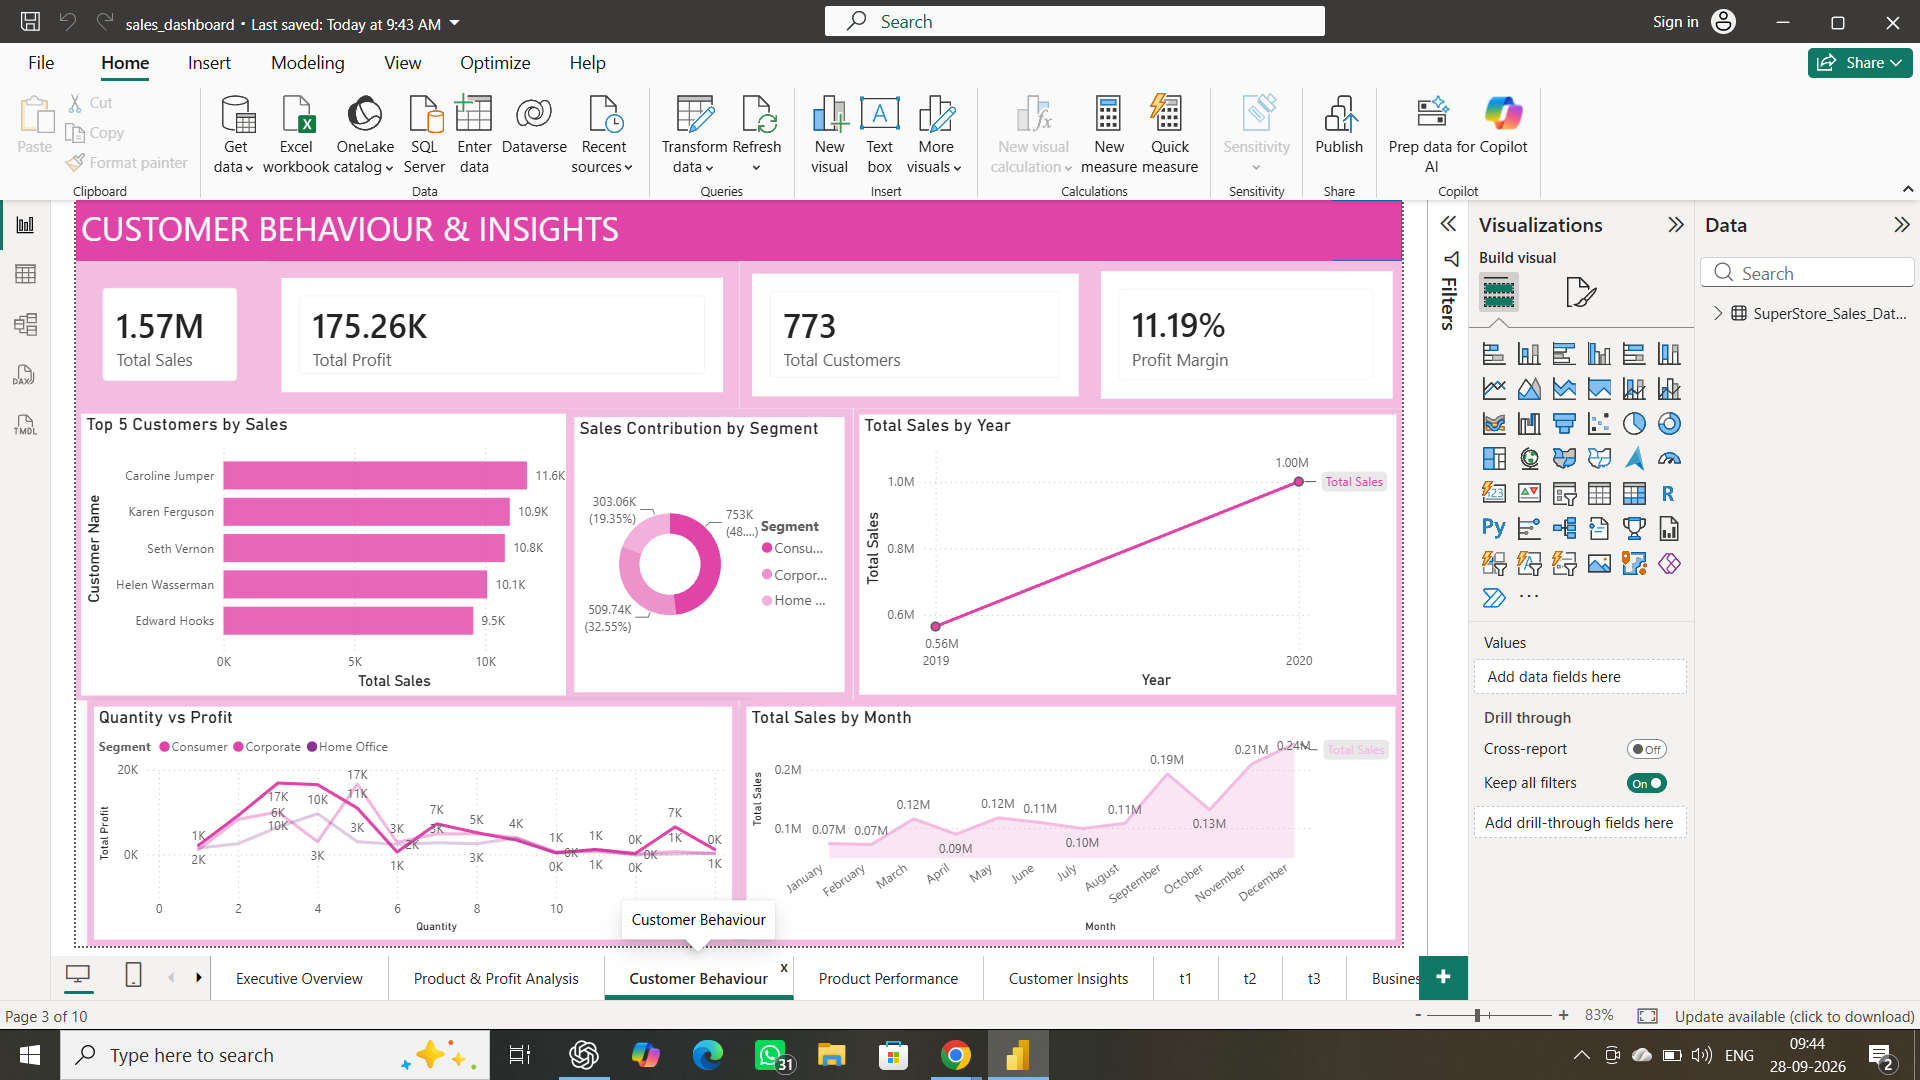

What the dashboard file says about the page in this screenshot:
{"tool":"powerbi","page":{"name":"Customer Behaviour","canvas":[1280,720],"ordinal":2},"visuals":[{"type":"barChart","title":"Top 5 Customers by Sales","fields":{"Category":["SuperStore_Sales_Dataset.Customer Name"],"Y":["SuperStore_Sales_Dataset.Total Sales"]},"box":[0,201.7,492.6,281.3],"z":0},{"type":"donutChart","title":"Sales Contribution by Segment","fields":{"Category":["SuperStore_Sales_Dataset.Segment"],"Y":["SuperStore_Sales_Dataset.Total Sales"]},"box":[473.4,201.7,277.2,281.3],"z":1000},{"type":"lineChart","title":"Quantity vs Profit","fields":{"Category":["SuperStore_Sales_Dataset.Quantity"],"Y":["SuperStore_Sales_Dataset.Total Profit"],"Series":["SuperStore_Sales_Dataset.Segment"]},"box":[11,483,628.5,237.4],"z":2000},{"type":"lineChart","fields":{"Category":["SuperStore_Sales_Dataset.Order Date.Variation.Date Hierarchy.Year"],"Y":["SuperStore_Sales_Dataset.Total Sales"]},"box":[750.6,201.7,529.7,281.3],"z":3000},{"type":"shape","box":[0,0,1280.3,59],"z":4000},{"type":"textbox","box":[0,0,1213,59],"z":5000},{"type":"cardVisual","fields":{"Data":["SuperStore_Sales_Dataset.Total Sales"]},"box":[0,58.6,182.9,142.9],"z":6000},{"type":"cardVisual","fields":{"Data":["SuperStore_Sales_Dataset.Total Profit"]},"box":[182.5,59,458.3,142.7],"z":7000},{"type":"cardVisual","fields":{"Data":["SuperStore_Sales_Dataset.Total Customers"]},"box":[640.8,59,338.9,142.7],"z":8000},{"type":"cardVisual","fields":{"Data":["SuperStore_Sales_Dataset.Profit Margin"]},"box":[979.8,59,300.5,142.7],"z":9000},{"type":"lineChart","fields":{"Category":["SuperStore_Sales_Dataset.Order Date.Variation.Date Hierarchy.Month"],"Y":["SuperStore_Sales_Dataset.Total Sales"]},"box":[640.8,483,639.5,237.4],"z":10000}]}

Visuals, with their boxes on the page's 1280x720 design canvas (x1, y1, x2, y2). These are canvas units, not pixel positions in the 1920x1080 screenshot, which may show the page scaled, cropped or inside an application window:
"Top 5 Customers by Sales" barChart: (left=0, top=202, right=493, bottom=483)
"Sales Contribution by Segment" donutChart: (left=473, top=202, right=751, bottom=483)
"Quantity vs Profit" lineChart: (left=11, top=483, right=640, bottom=720)
lineChart - SuperStore_Sales_Dataset.Order Date.Variation.Date Hierarchy.Year x SuperStore_Sales_Dataset.Total Sales: (left=751, top=202, right=1280, bottom=483)
shape: (left=0, top=0, right=1280, bottom=59)
textbox: (left=0, top=0, right=1213, bottom=59)
cardVisual - SuperStore_Sales_Dataset.Total Sales: (left=0, top=59, right=183, bottom=202)
cardVisual - SuperStore_Sales_Dataset.Total Profit: (left=182, top=59, right=641, bottom=202)
cardVisual - SuperStore_Sales_Dataset.Total Customers: (left=641, top=59, right=980, bottom=202)
cardVisual - SuperStore_Sales_Dataset.Profit Margin: (left=980, top=59, right=1280, bottom=202)
lineChart - SuperStore_Sales_Dataset.Order Date.Variation.Date Hierarchy.Month x SuperStore_Sales_Dataset.Total Sales: (left=641, top=483, right=1280, bottom=720)
